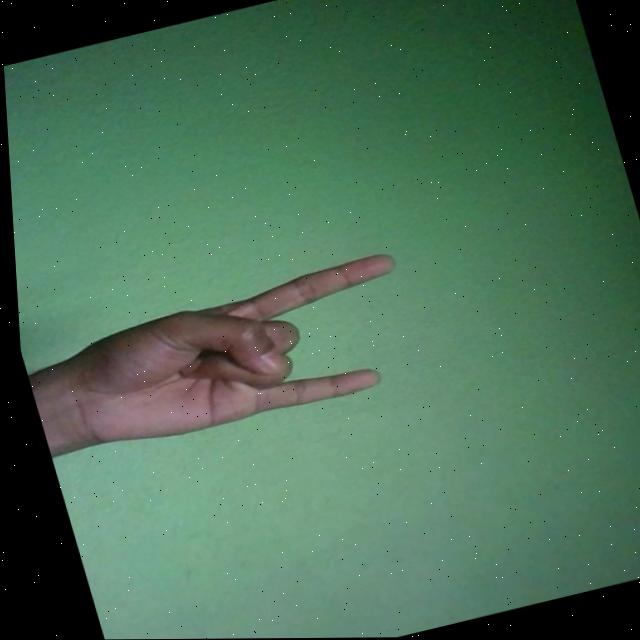Rock On: (35, 249, 428, 460)
